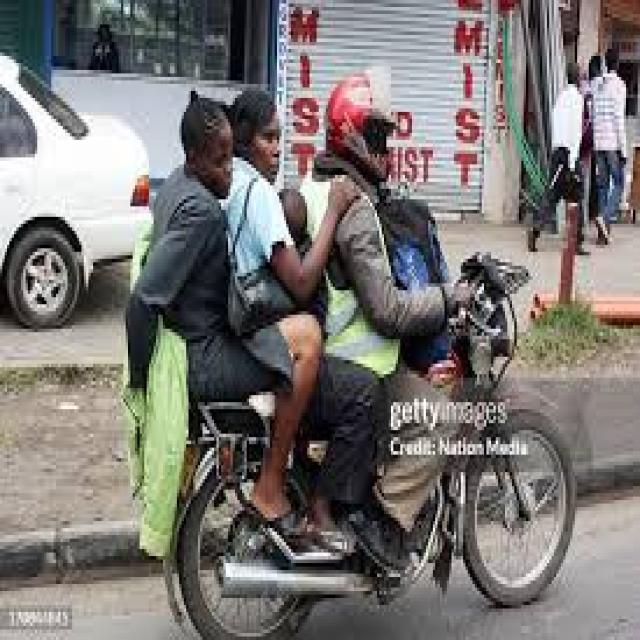bodaboda: (104, 241, 609, 640)
